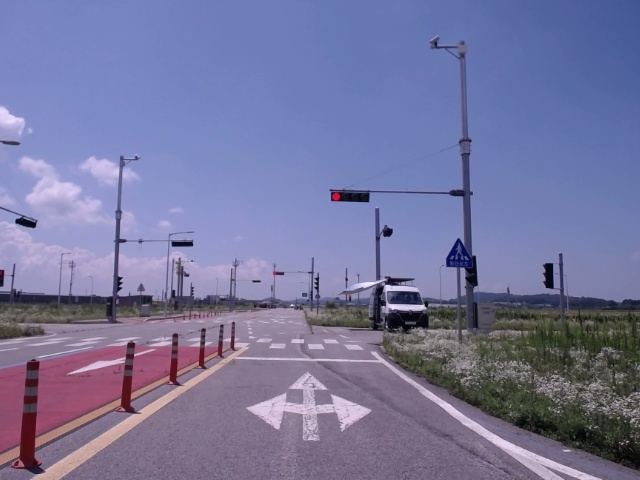red_4: (331, 191, 370, 202)
